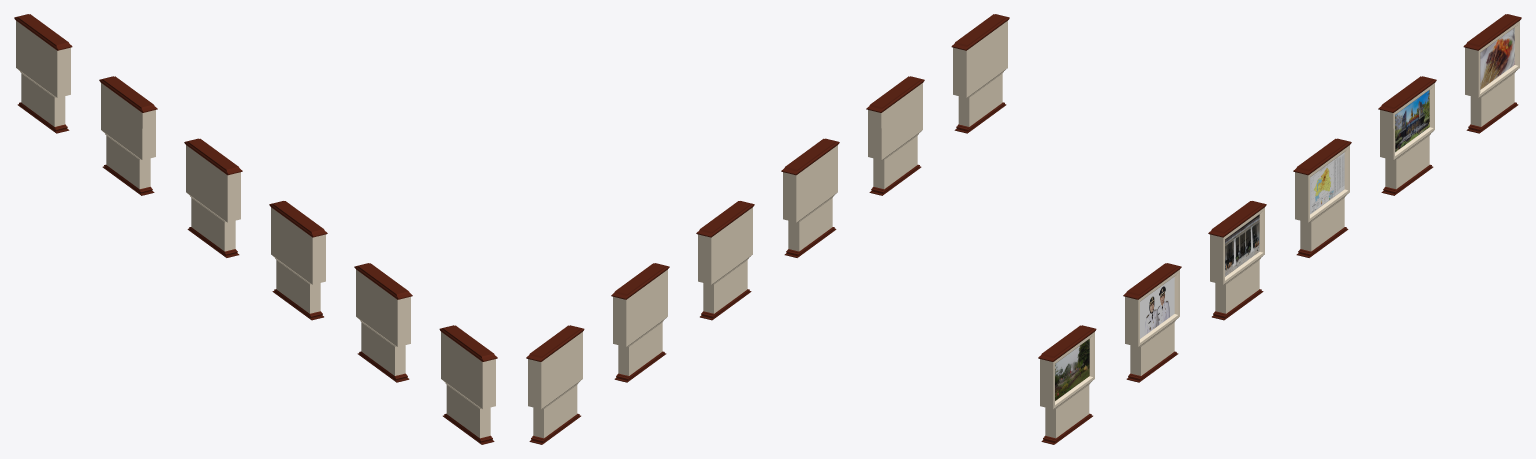
The model's file is tembokInfo.glb.
3 renders of one model, left to right at view 1: azimuth 30°, elevation 25°; view 2: azimuth 150°, elevation 25°; view 3: azimuth 330°, elevation 25°, orthographic.
Parts seen in each view (by area): view 1: Plane; view 2: Plane; view 3: Plane.
Part boxes in pixels (x1,y1,x2,y2): Plane: [14, 14, 497, 444]; Plane: [526, 14, 1009, 444]; Plane: [1038, 14, 1521, 444].
Bounding box in the file's own units: 0.8632 × 5.12 × 49.43.
Materials: 8 (6 with a texture image).
